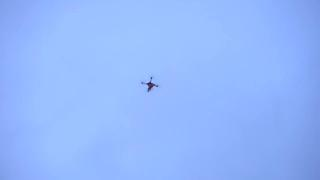UAV: (142, 78, 158, 92)
